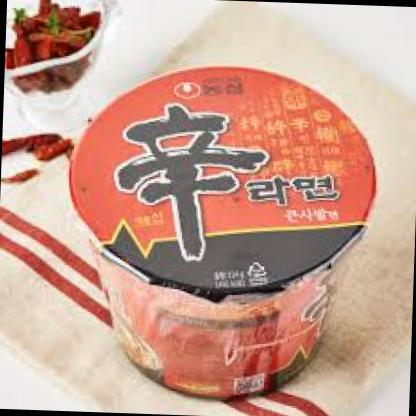Ramen: (54, 46, 386, 398)
